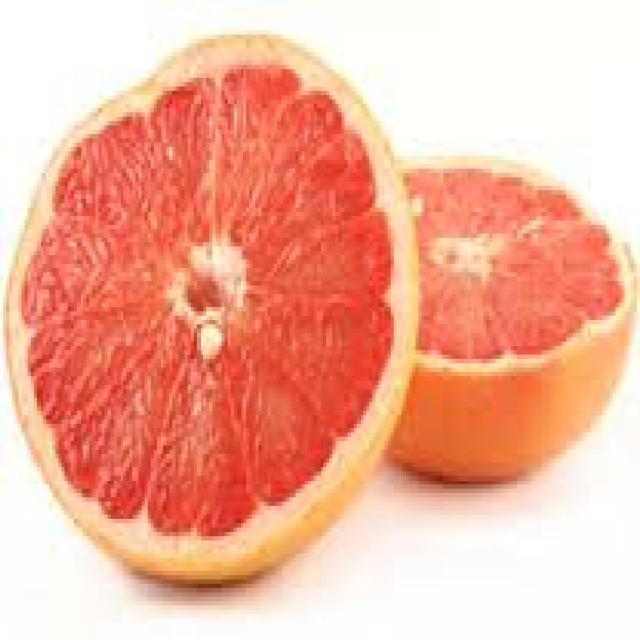greapefurit: (0, 31, 634, 580)
